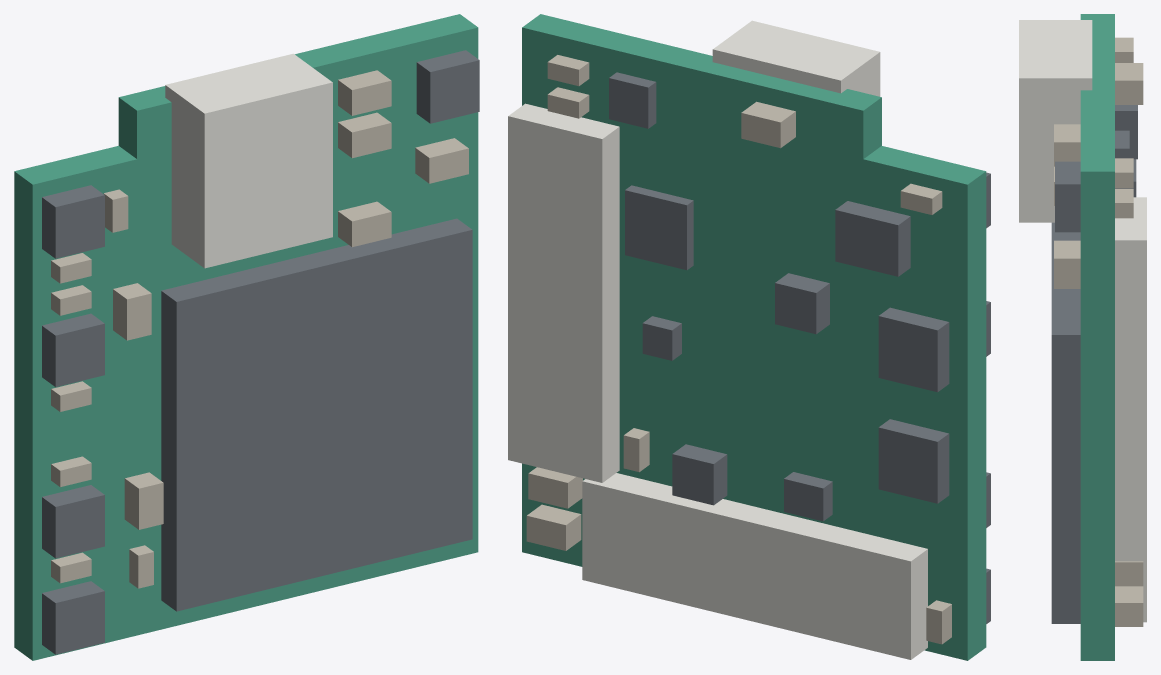
File: Frontend_FPGA_Board_V29.glb
3 renders of one model, left to right at view 1: azimuth 30°, elevation 25°; view 2: azimuth 150°, elevation 25°; view 3: azimuth 270°, elevation 25°, orthographic. The views are drawn at different scales.
Parts seen in each view (by area): view 1: ic, board, conn, passive; view 2: board, conn, ic, passive; view 3: conn, board, ic, passive.
Boxes of the visible parts, x1,y1,x2,y2 form: ic: (42, 50, 479, 654); board: (14, 14, 478, 660); conn: (165, 53, 332, 268); passive: (51, 70, 468, 588); board: (522, 14, 986, 660); conn: (508, 20, 927, 659); ic: (609, 72, 990, 623); passive: (526, 55, 951, 644); conn: (1019, 20, 1146, 622); board: (1080, 14, 1114, 660); ic: (1051, 105, 1137, 623); passive: (1054, 37, 1143, 626).
Size of the model in its own units: 22.59 by 26.04 by 6.02.
